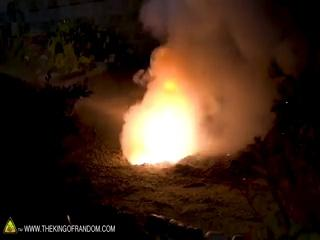Fire: (117, 73, 194, 166)
